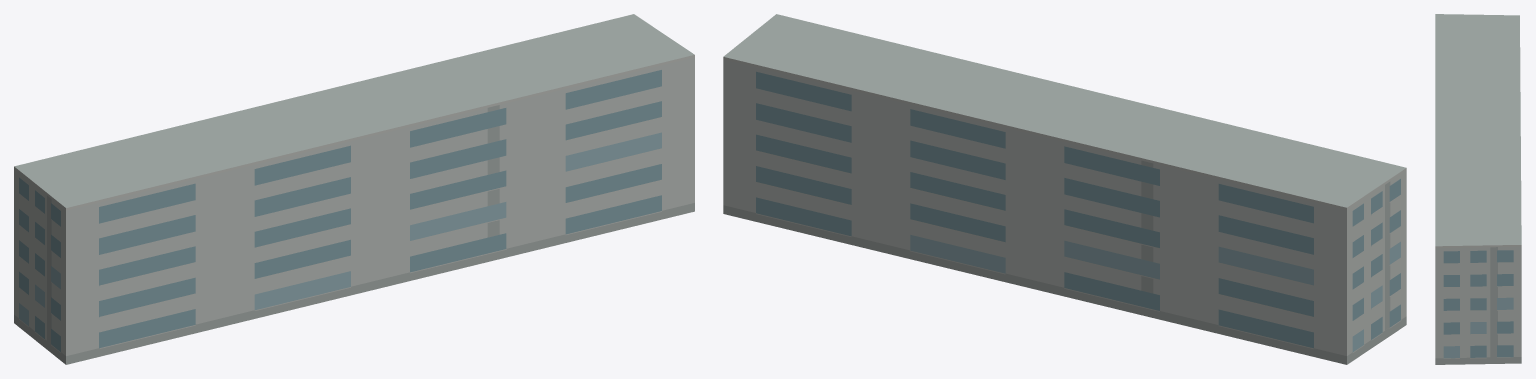
Rendered from residential-22616c90-f6f7-45b3-8c50-c1500a10b526.glb.
The picture shows the model from 3 angles, left to right: view 1: azimuth 30°, elevation 25°; view 2: azimuth 150°, elevation 25°; view 3: azimuth 270°, elevation 25°; orthographic projection. The views are drawn at different scales.
Visible parts, largest first — view 1: residential-22616c90-f6f7-45b3-8c50-c1500a10b526.tmp; view 2: residential-22616c90-f6f7-45b3-8c50-c1500a10b526.tmp; view 3: residential-22616c90-f6f7-45b3-8c50-c1500a10b526.tmp.
Boxes of the visible parts, x1,y1,x2,y2 form: residential-22616c90-f6f7-45b3-8c50-c1500a10b526.tmp: (14, 14, 694, 364); residential-22616c90-f6f7-45b3-8c50-c1500a10b526.tmp: (723, 14, 1406, 364); residential-22616c90-f6f7-45b3-8c50-c1500a10b526.tmp: (1435, 14, 1521, 364).
Size of the model in its own units: 64.01 by 15.25 by 10.06.
